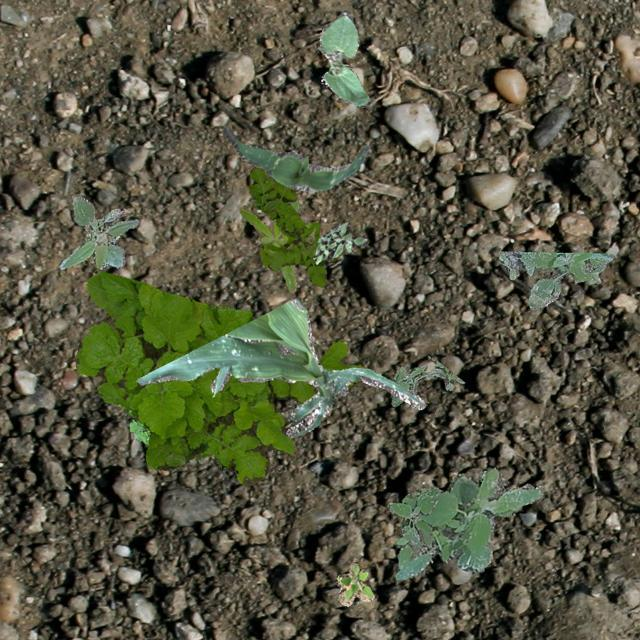crop: (136, 298, 424, 437), (222, 124, 370, 190), (316, 12, 369, 106)
weed: (74, 270, 362, 486), (393, 466, 542, 580), (248, 167, 336, 286), (238, 198, 310, 292), (498, 250, 612, 308), (58, 192, 138, 268), (389, 356, 464, 406), (386, 486, 438, 548), (313, 220, 367, 262), (336, 562, 374, 606), (128, 414, 150, 444)
